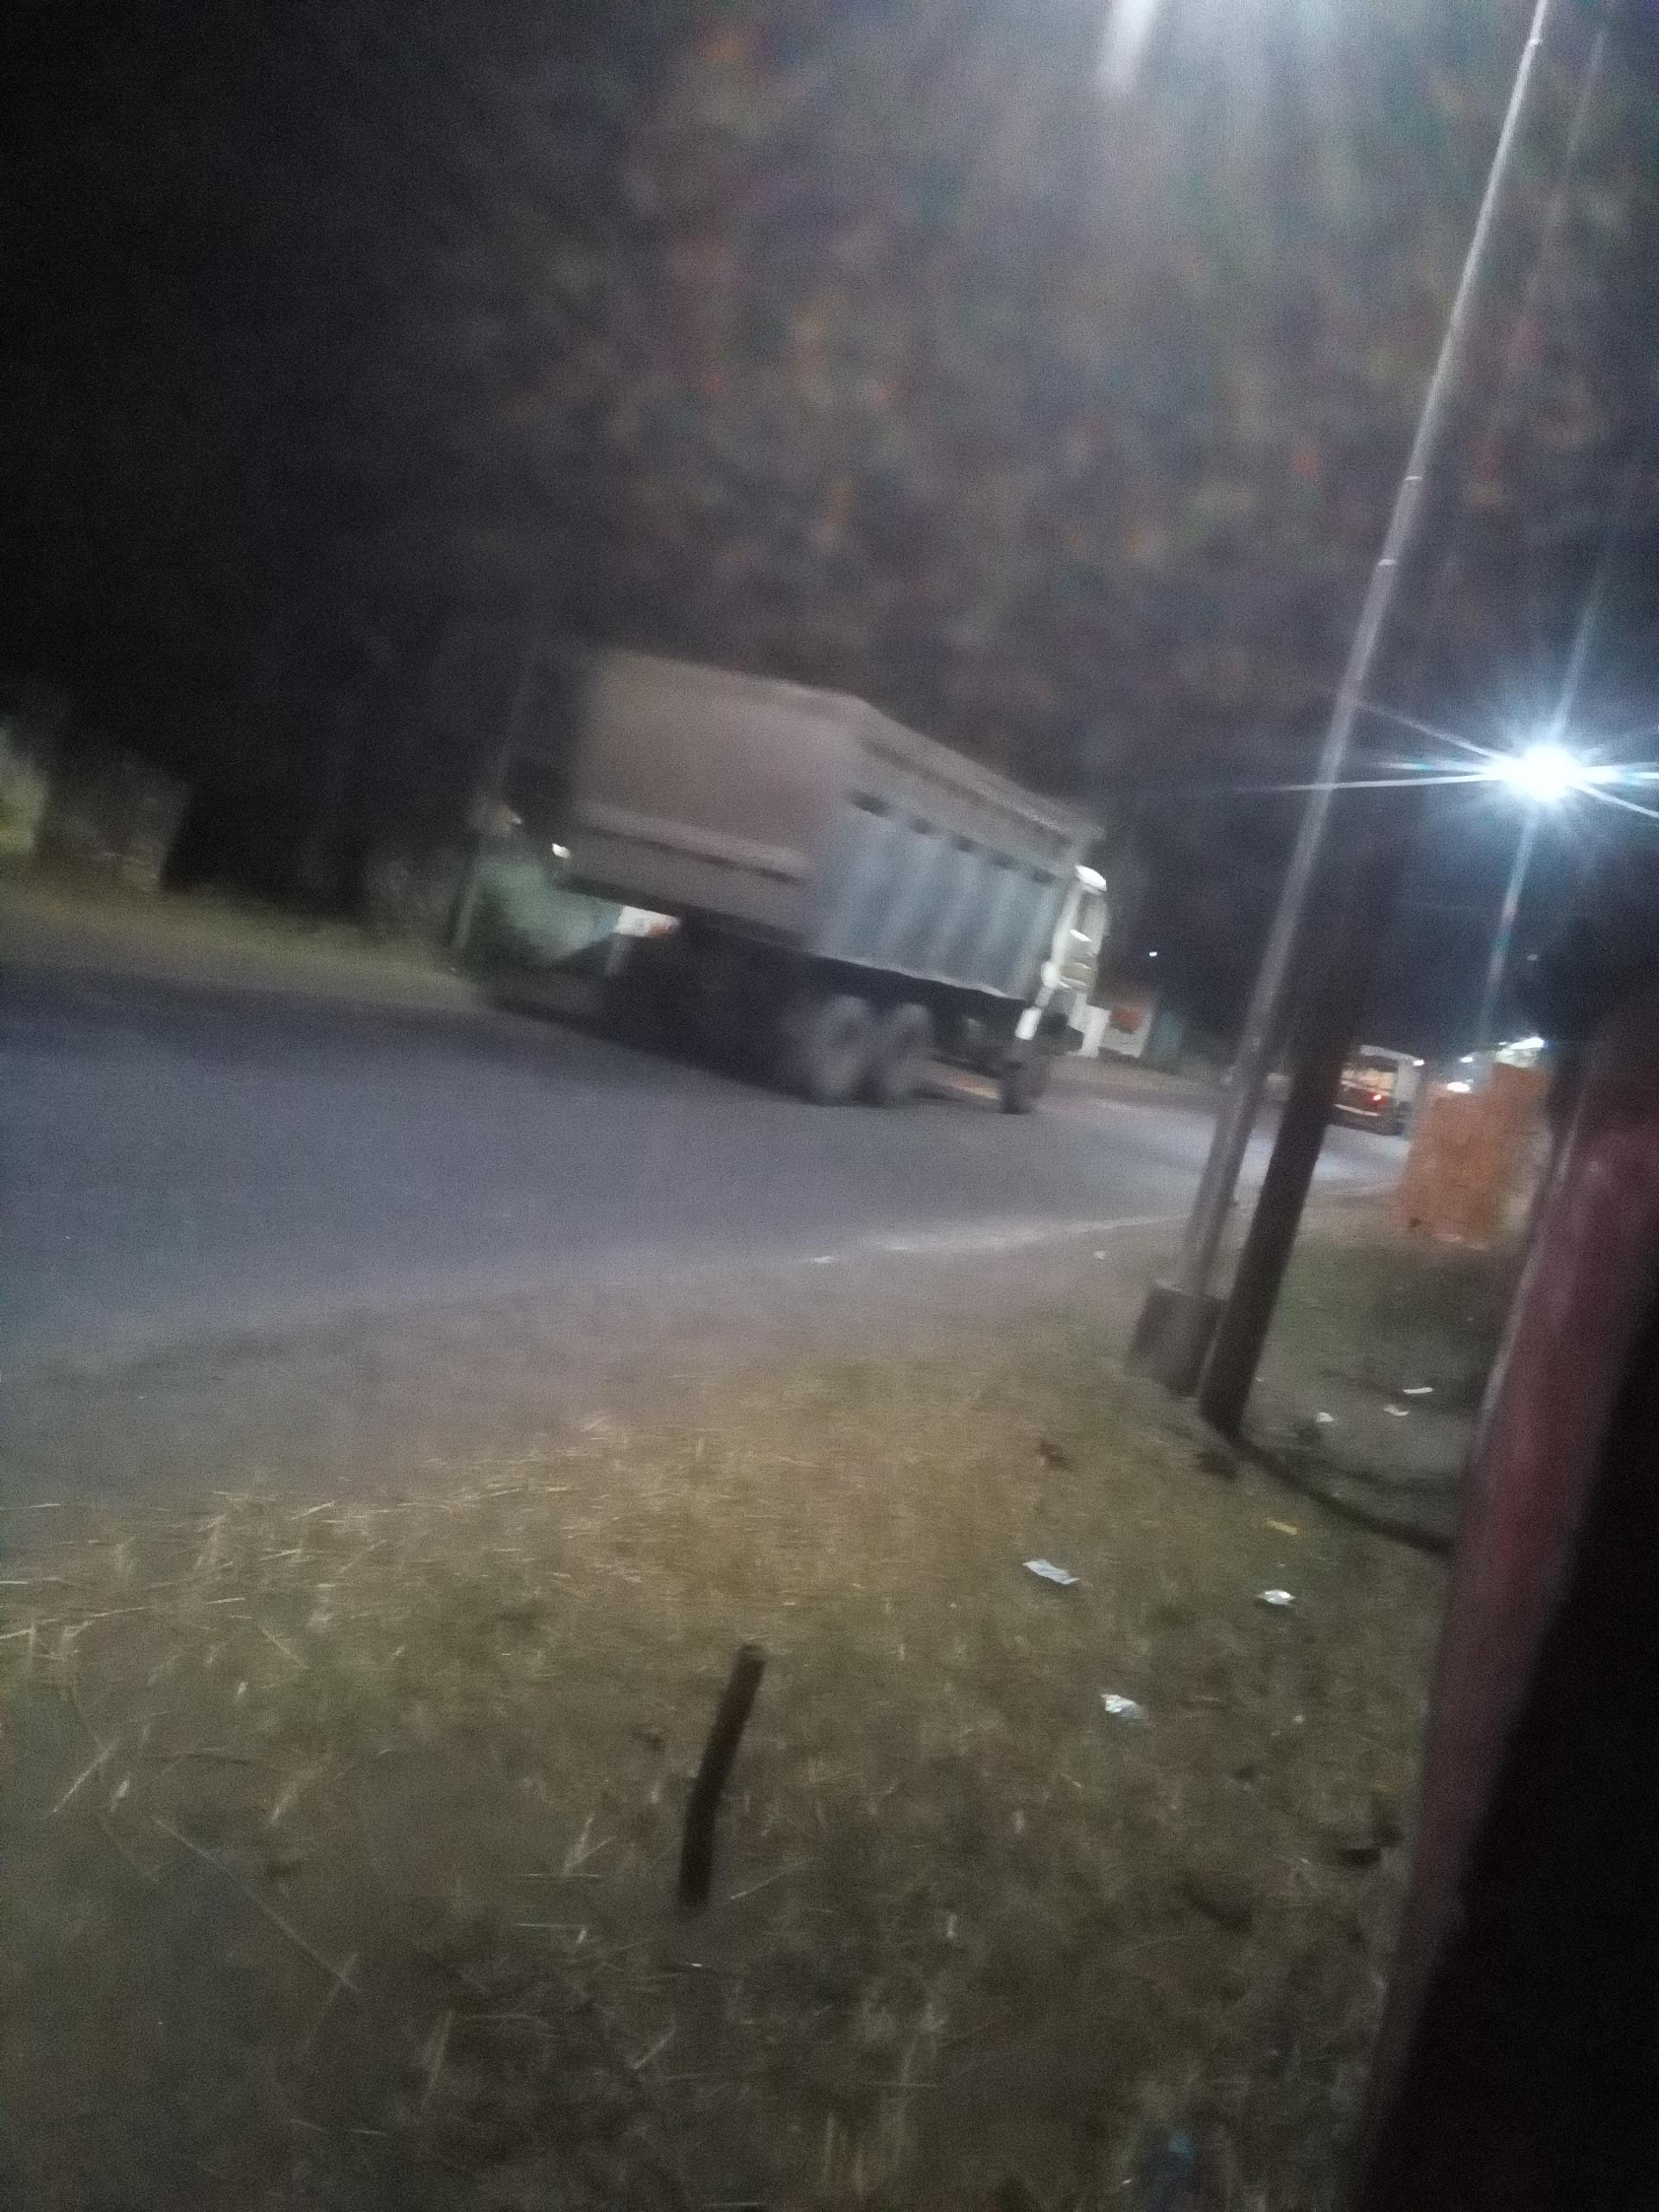Truck: (580, 636, 1117, 1128)
